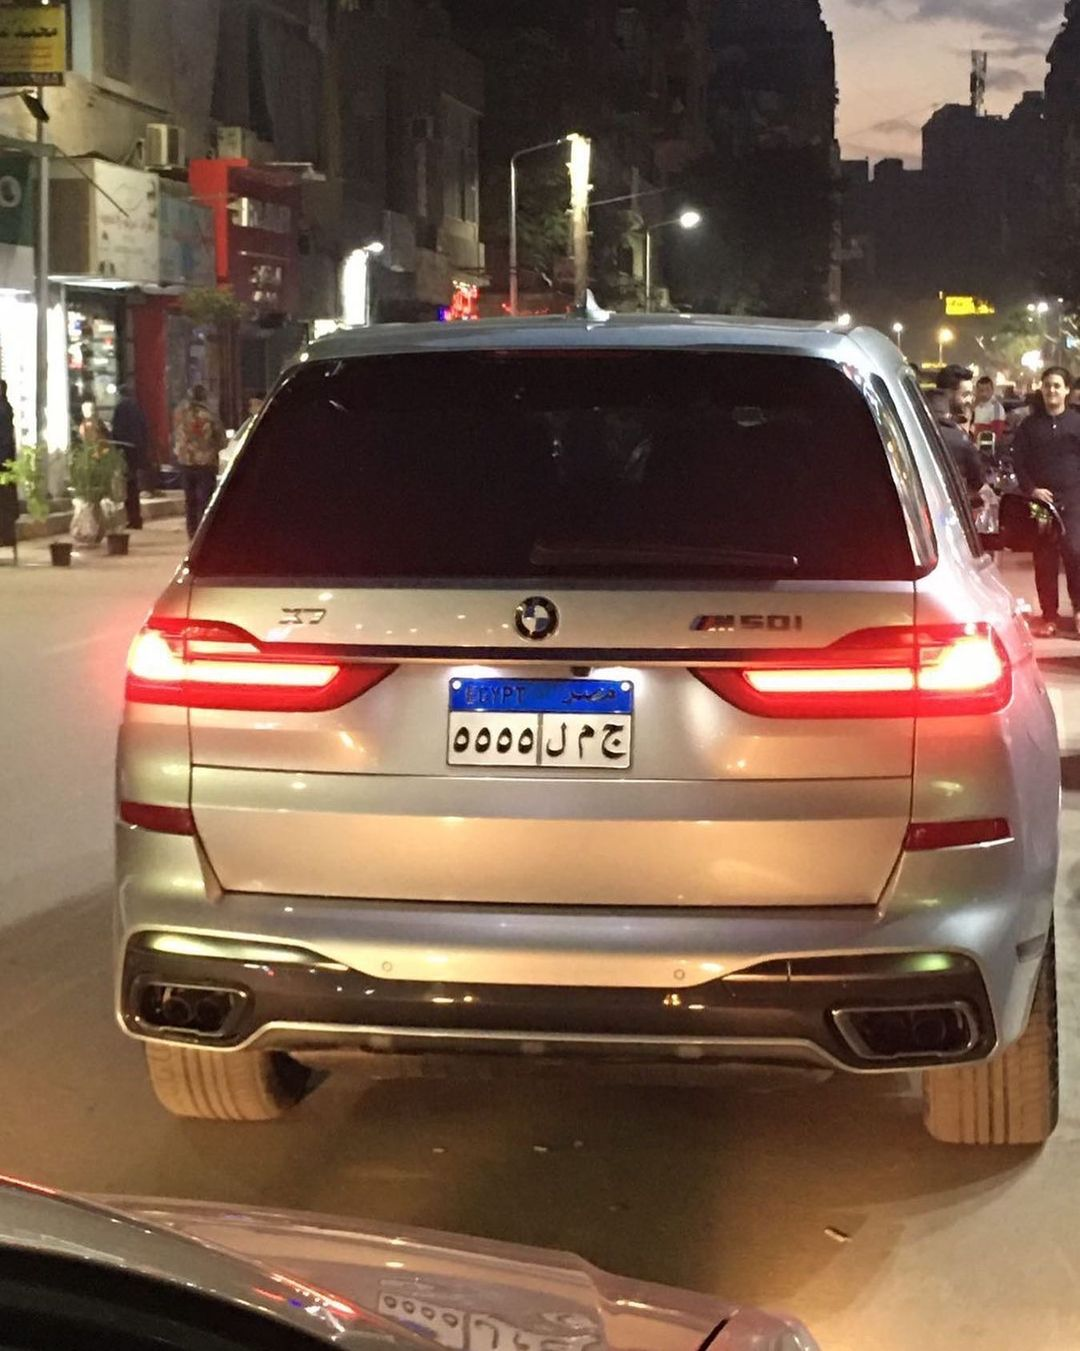carpl: (438, 664, 633, 784)
